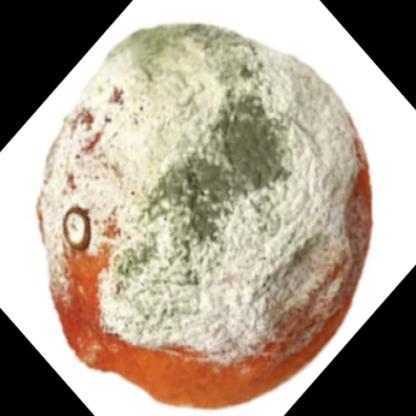rotten: (37, 23, 370, 411)
